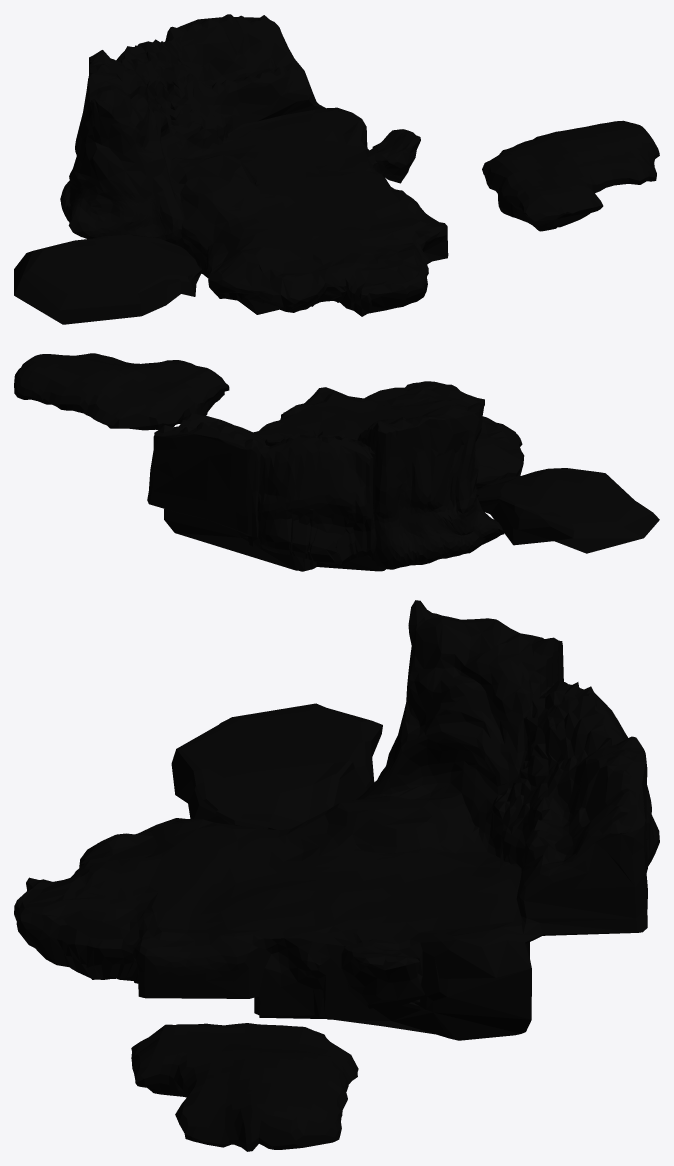
Rendered from freeroam.glb.
3 renders of one model, top to bottom at view 1: azimuth 30°, elevation 25°; view 2: azimuth 150°, elevation 25°; view 3: azimuth 270°, elevation 25°, orthographic. The views are drawn at different scales.
Parts seen in each view (by area): view 1: SWAMP, RITUAL, TOWN; view 2: SWAMP, TOWN, RITUAL; view 3: SWAMP, TOWN, RITUAL.
Part boxes in pixels (bbox=[...]): SWAMP: bbox=[60, 14, 448, 316]; RITUAL: bbox=[14, 234, 202, 324]; TOWN: bbox=[482, 120, 659, 231]; SWAMP: bbox=[147, 381, 524, 571]; TOWN: bbox=[14, 353, 229, 430]; RITUAL: bbox=[476, 468, 659, 553]; SWAMP: bbox=[14, 600, 659, 1040]; TOWN: bbox=[131, 1023, 358, 1151]; RITUAL: bbox=[171, 703, 382, 829].
Bounding box in the file's own units: 208 × 56.75 × 129.
Materials: 1 (1 with a texture image).
